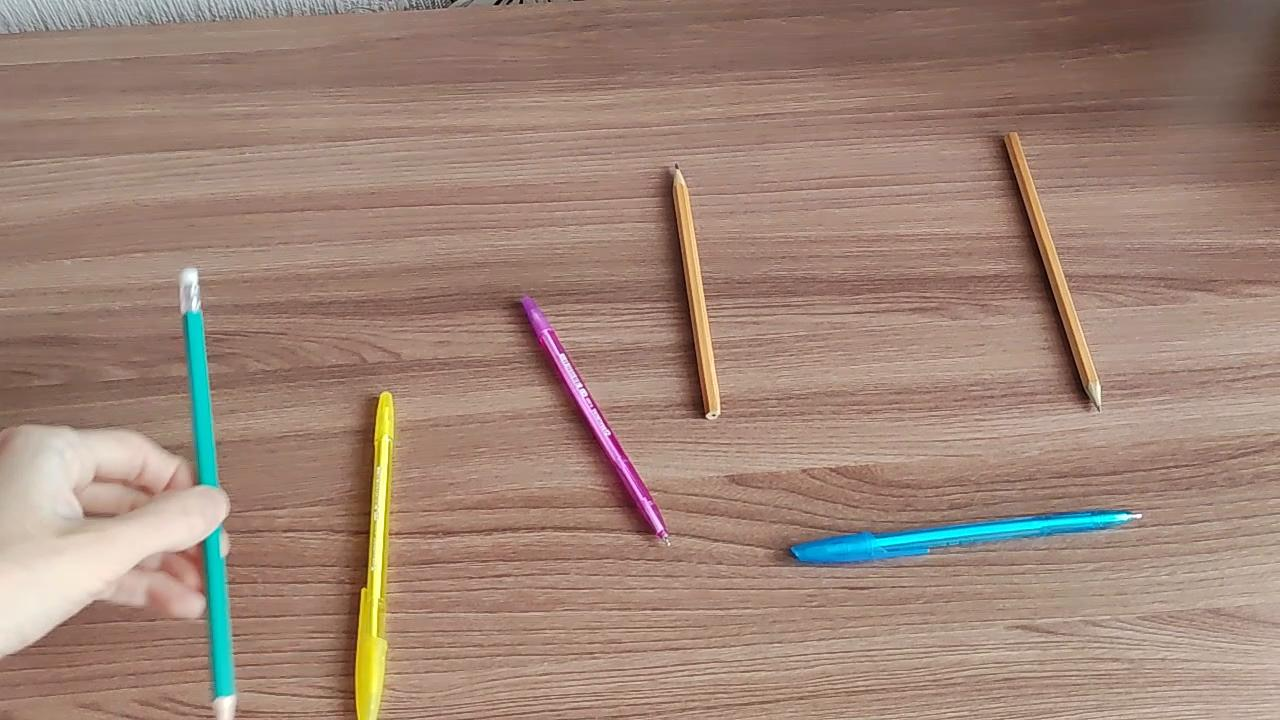pen: (516, 295, 675, 552), (787, 506, 1150, 571), (352, 379, 397, 720)
pencil: (1000, 129, 1107, 415), (176, 263, 241, 720), (667, 163, 724, 424)
